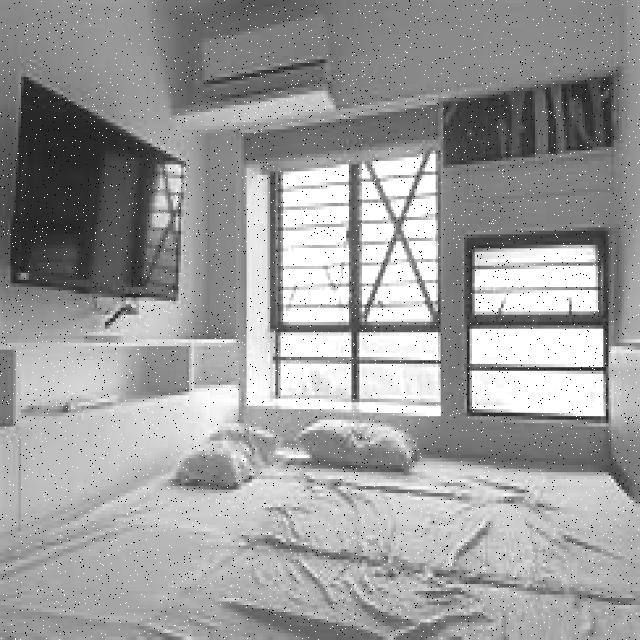bed: (31, 419, 639, 640)
